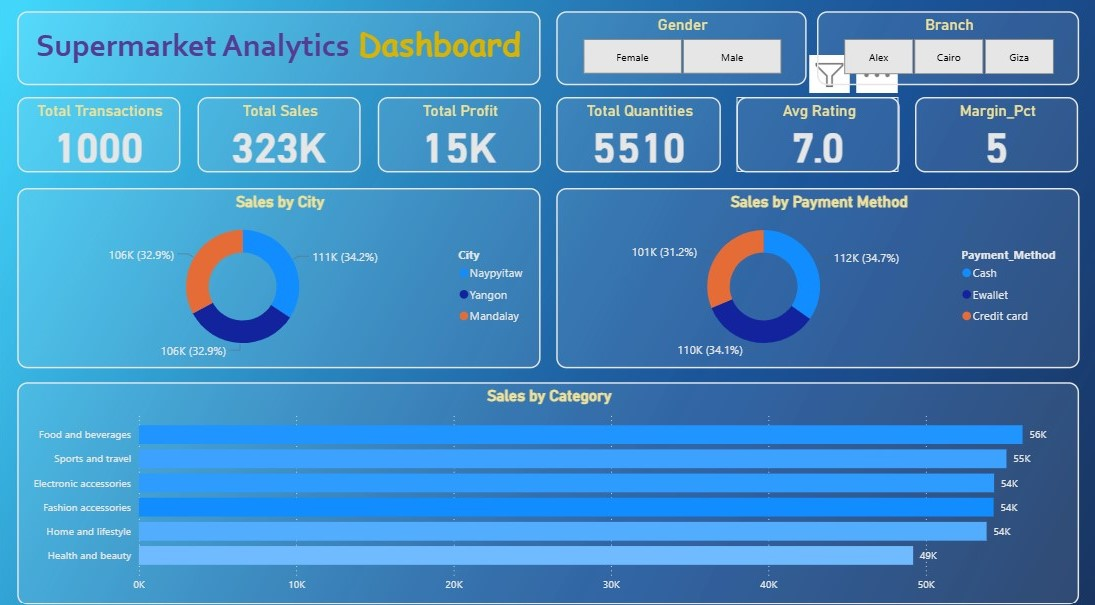

Layout of this report page (visuals, bound fields, positions):
{"tool":"powerbi","page":{"name":"Overview","canvas":[1280,720],"ordinal":0},"visuals":[{"type":"card","title":"Total Transactions","fields":{"Values":["SuperMarket Analysis.Total_Transactions"]},"box":[22,114,190,88],"z":0},{"type":"card","title":"Total Sales","fields":{"Values":["SuperMarket Analysis.Total_Sales"]},"box":[232,114,190,88],"z":1000},{"type":"card","title":"Total Profit","fields":{"Values":["SuperMarket Analysis.Total_Profit"]},"box":[442,114,190,88],"z":2000},{"type":"card","title":"Total Quantities","fields":{"Values":["Sum(SuperMarket Analysis.Quantity)"]},"box":[650,114,192,88],"z":3000},{"type":"card","title":"Avg Rating","fields":{"Values":["SuperMarket Analysis.Avg_Rating"]},"box":[862,114,190,88],"z":4000},{"type":"card","title":"Margin_Pct","fields":{"Values":["Avg(SuperMarket Analysis.Margin_Pct)"]},"box":[1070,114,190,88],"z":5000},{"type":"clusteredBarChart","title":"Sales by Category","fields":{"Category":["SuperMarket Analysis.Category"],"Y":["Sum(SuperMarket Analysis.Total_Amount)"]},"box":[22,446,1238,260],"z":6000},{"type":"donutChart","title":"Sales by Payment Method","fields":{"Y":["Sum(SuperMarket Analysis.Total_Amount)"],"Category":["SuperMarket Analysis.Payment_Method"]},"box":[650,220,610,210],"z":7000},{"type":"donutChart","title":"Sales by City","fields":{"Y":["Sum(SuperMarket Analysis.Total_Amount)"],"Category":["SuperMarket Analysis.City"]},"box":[22,220,610,210],"z":8000},{"type":"slicer","title":"Branch","fields":{"Values":["SuperMarket Analysis.Branch"]},"box":[954.9,14.1,305.6,86.4],"z":9000},{"type":"textbox","box":[22,14,610,86],"z":10000},{"type":"slicer","title":"Gender","fields":{"Values":["SuperMarket Analysis.Gender"]},"box":[650,14,292,86],"z":11000}]}

Visuals, with their boxes in screenshot pixels (x1, y1, x2, y2), scaled from the page's 1280x720 canvas onto the 1095x605 screenshot:
"Total Transactions" card: 19:96:181:170
"Total Sales" card: 198:96:361:170
"Total Profit" card: 378:96:541:170
"Total Quantities" card: 556:96:720:170
"Avg Rating" card: 737:96:900:170
"Margin_Pct" card: 915:96:1078:170
"Sales by Category" clusteredBarChart: 19:375:1078:593
"Sales by Payment Method" donutChart: 556:185:1078:361
"Sales by City" donutChart: 19:185:541:361
"Branch" slicer: 817:12:1078:84
textbox: 19:12:541:84
"Gender" slicer: 556:12:806:84
